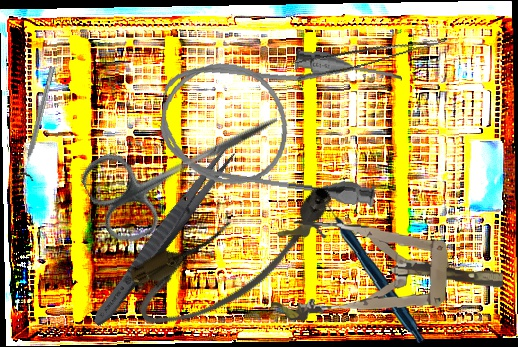Cannula: (153, 33, 405, 209), (120, 171, 354, 343)
Dressing Forceps: (87, 135, 243, 332)
Fixation Ring: (16, 64, 62, 182)
Handpiece: (320, 193, 430, 343)
Iris Scissors: (75, 75, 297, 251)
Speculum: (270, 220, 506, 331)
Tissue Forceps: (291, 20, 449, 85)
